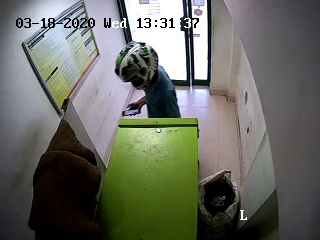helmet: (112, 40, 162, 95)
